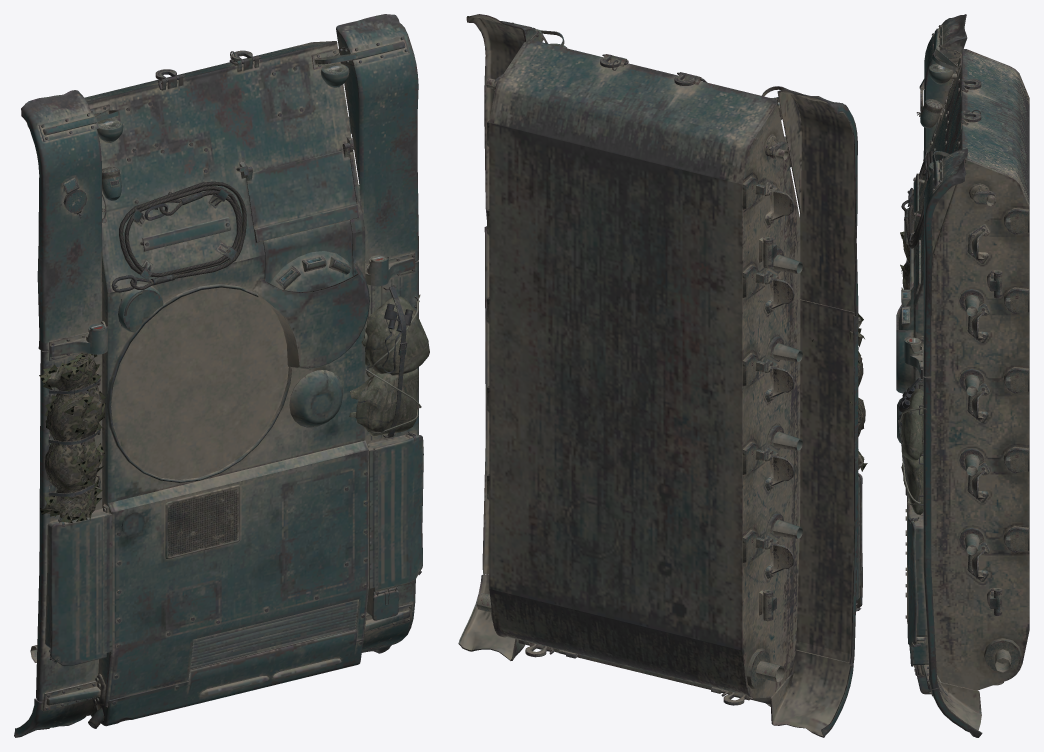
File: Hull.glb
3 views of the same model, side by side, from view 1: azimuth 30°, elevation 25°; view 2: azimuth 150°, elevation 25°; view 3: azimuth 270°, elevation 25° (orthographic). The views are drawn at different scales.
Parts seen in each view (by area): view 1: set_0_group_0; view 2: set_0_group_0; view 3: set_0_group_0.
Part boxes in pixels (left/top/right/bottom): set_0_group_0: left=14, top=14, right=429, bottom=737; set_0_group_0: left=458, top=14, right=867, bottom=737; set_0_group_0: left=896, top=14, right=1029, bottom=737.
Size of the model in its own units: 2.16 by 3.45 by 0.7322.
1 material, 1 textured.
